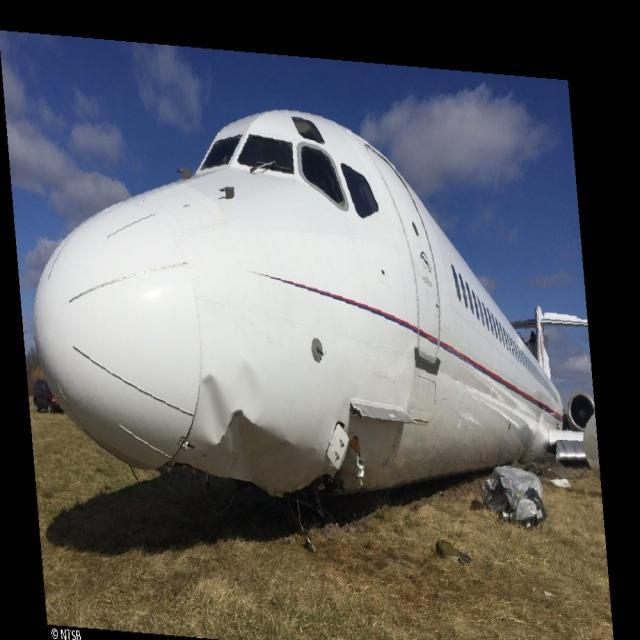dent: (198, 369, 233, 446), (239, 360, 260, 421)
